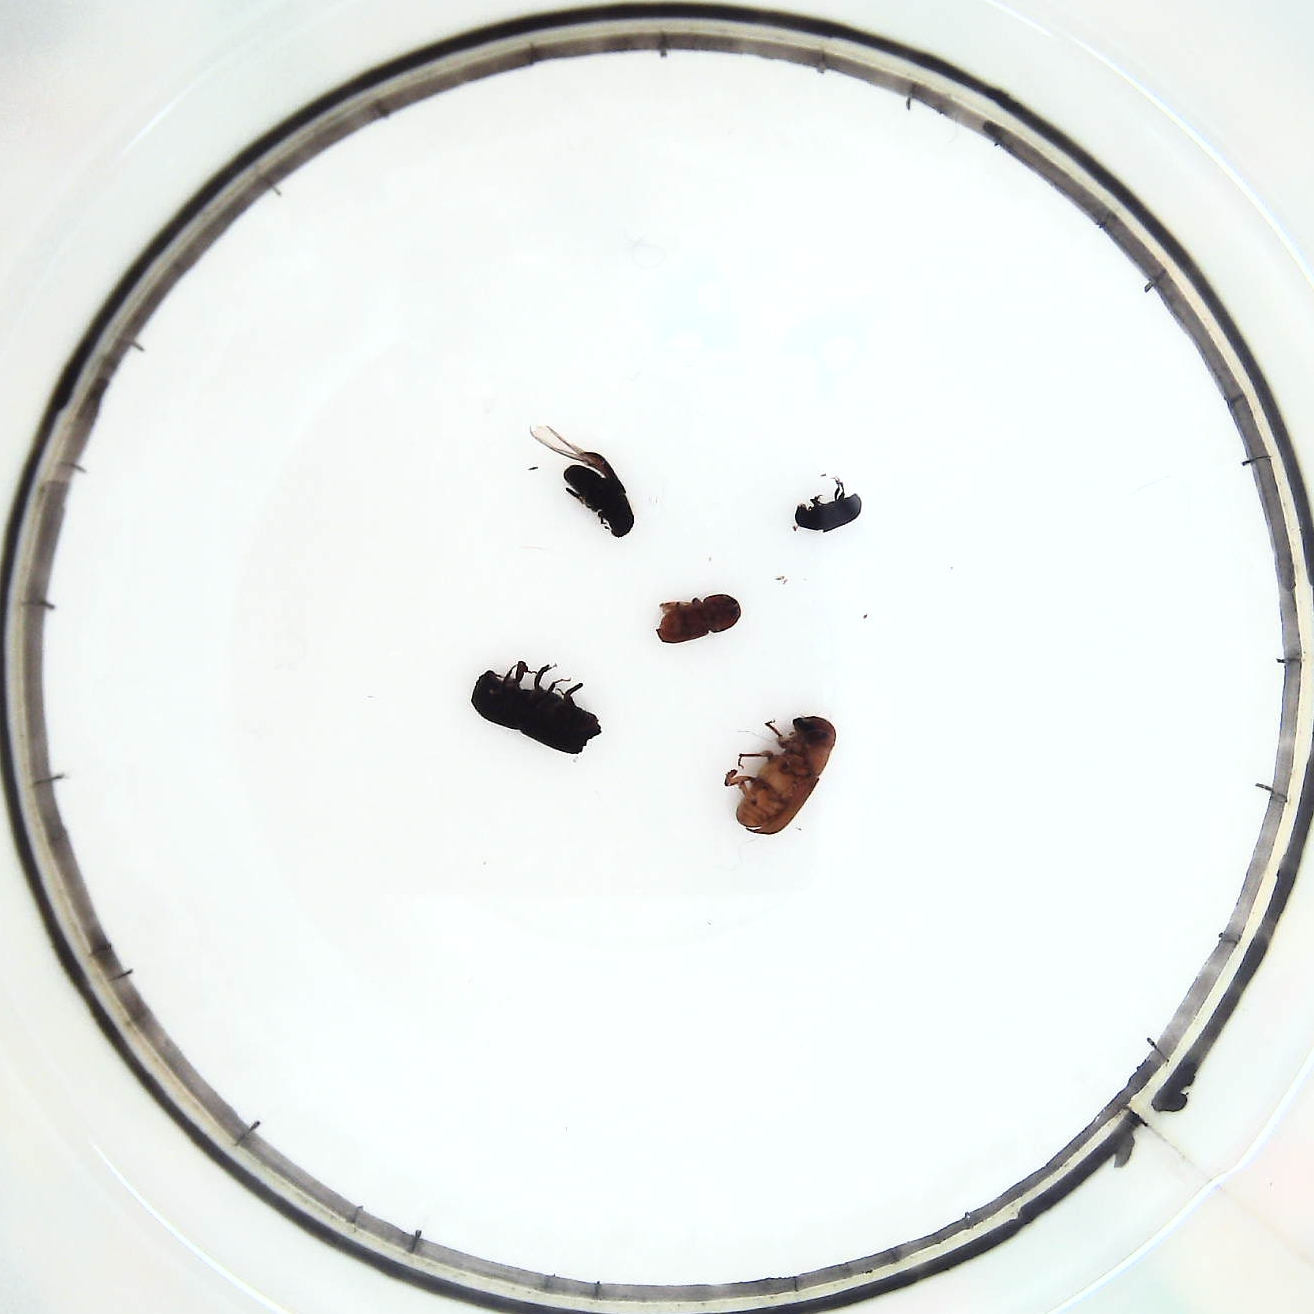Boerner: (468, 659, 606, 762)
Leconte: (724, 714, 839, 842)
armandi: (523, 418, 641, 545)
coleoptera: (787, 474, 865, 537)
linnaeus: (656, 588, 746, 643)
